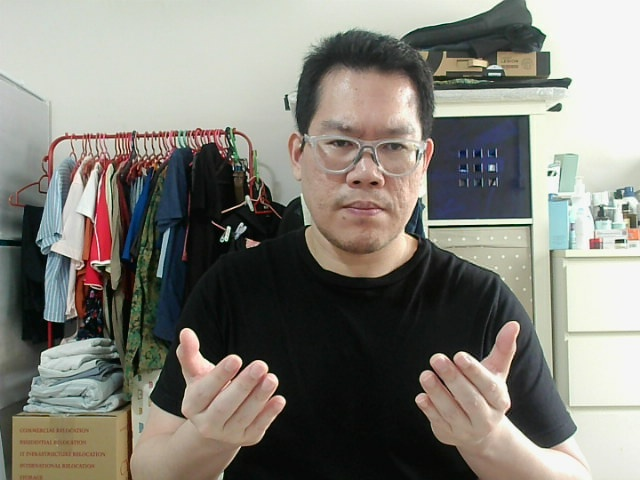want: (421, 327, 511, 443)
